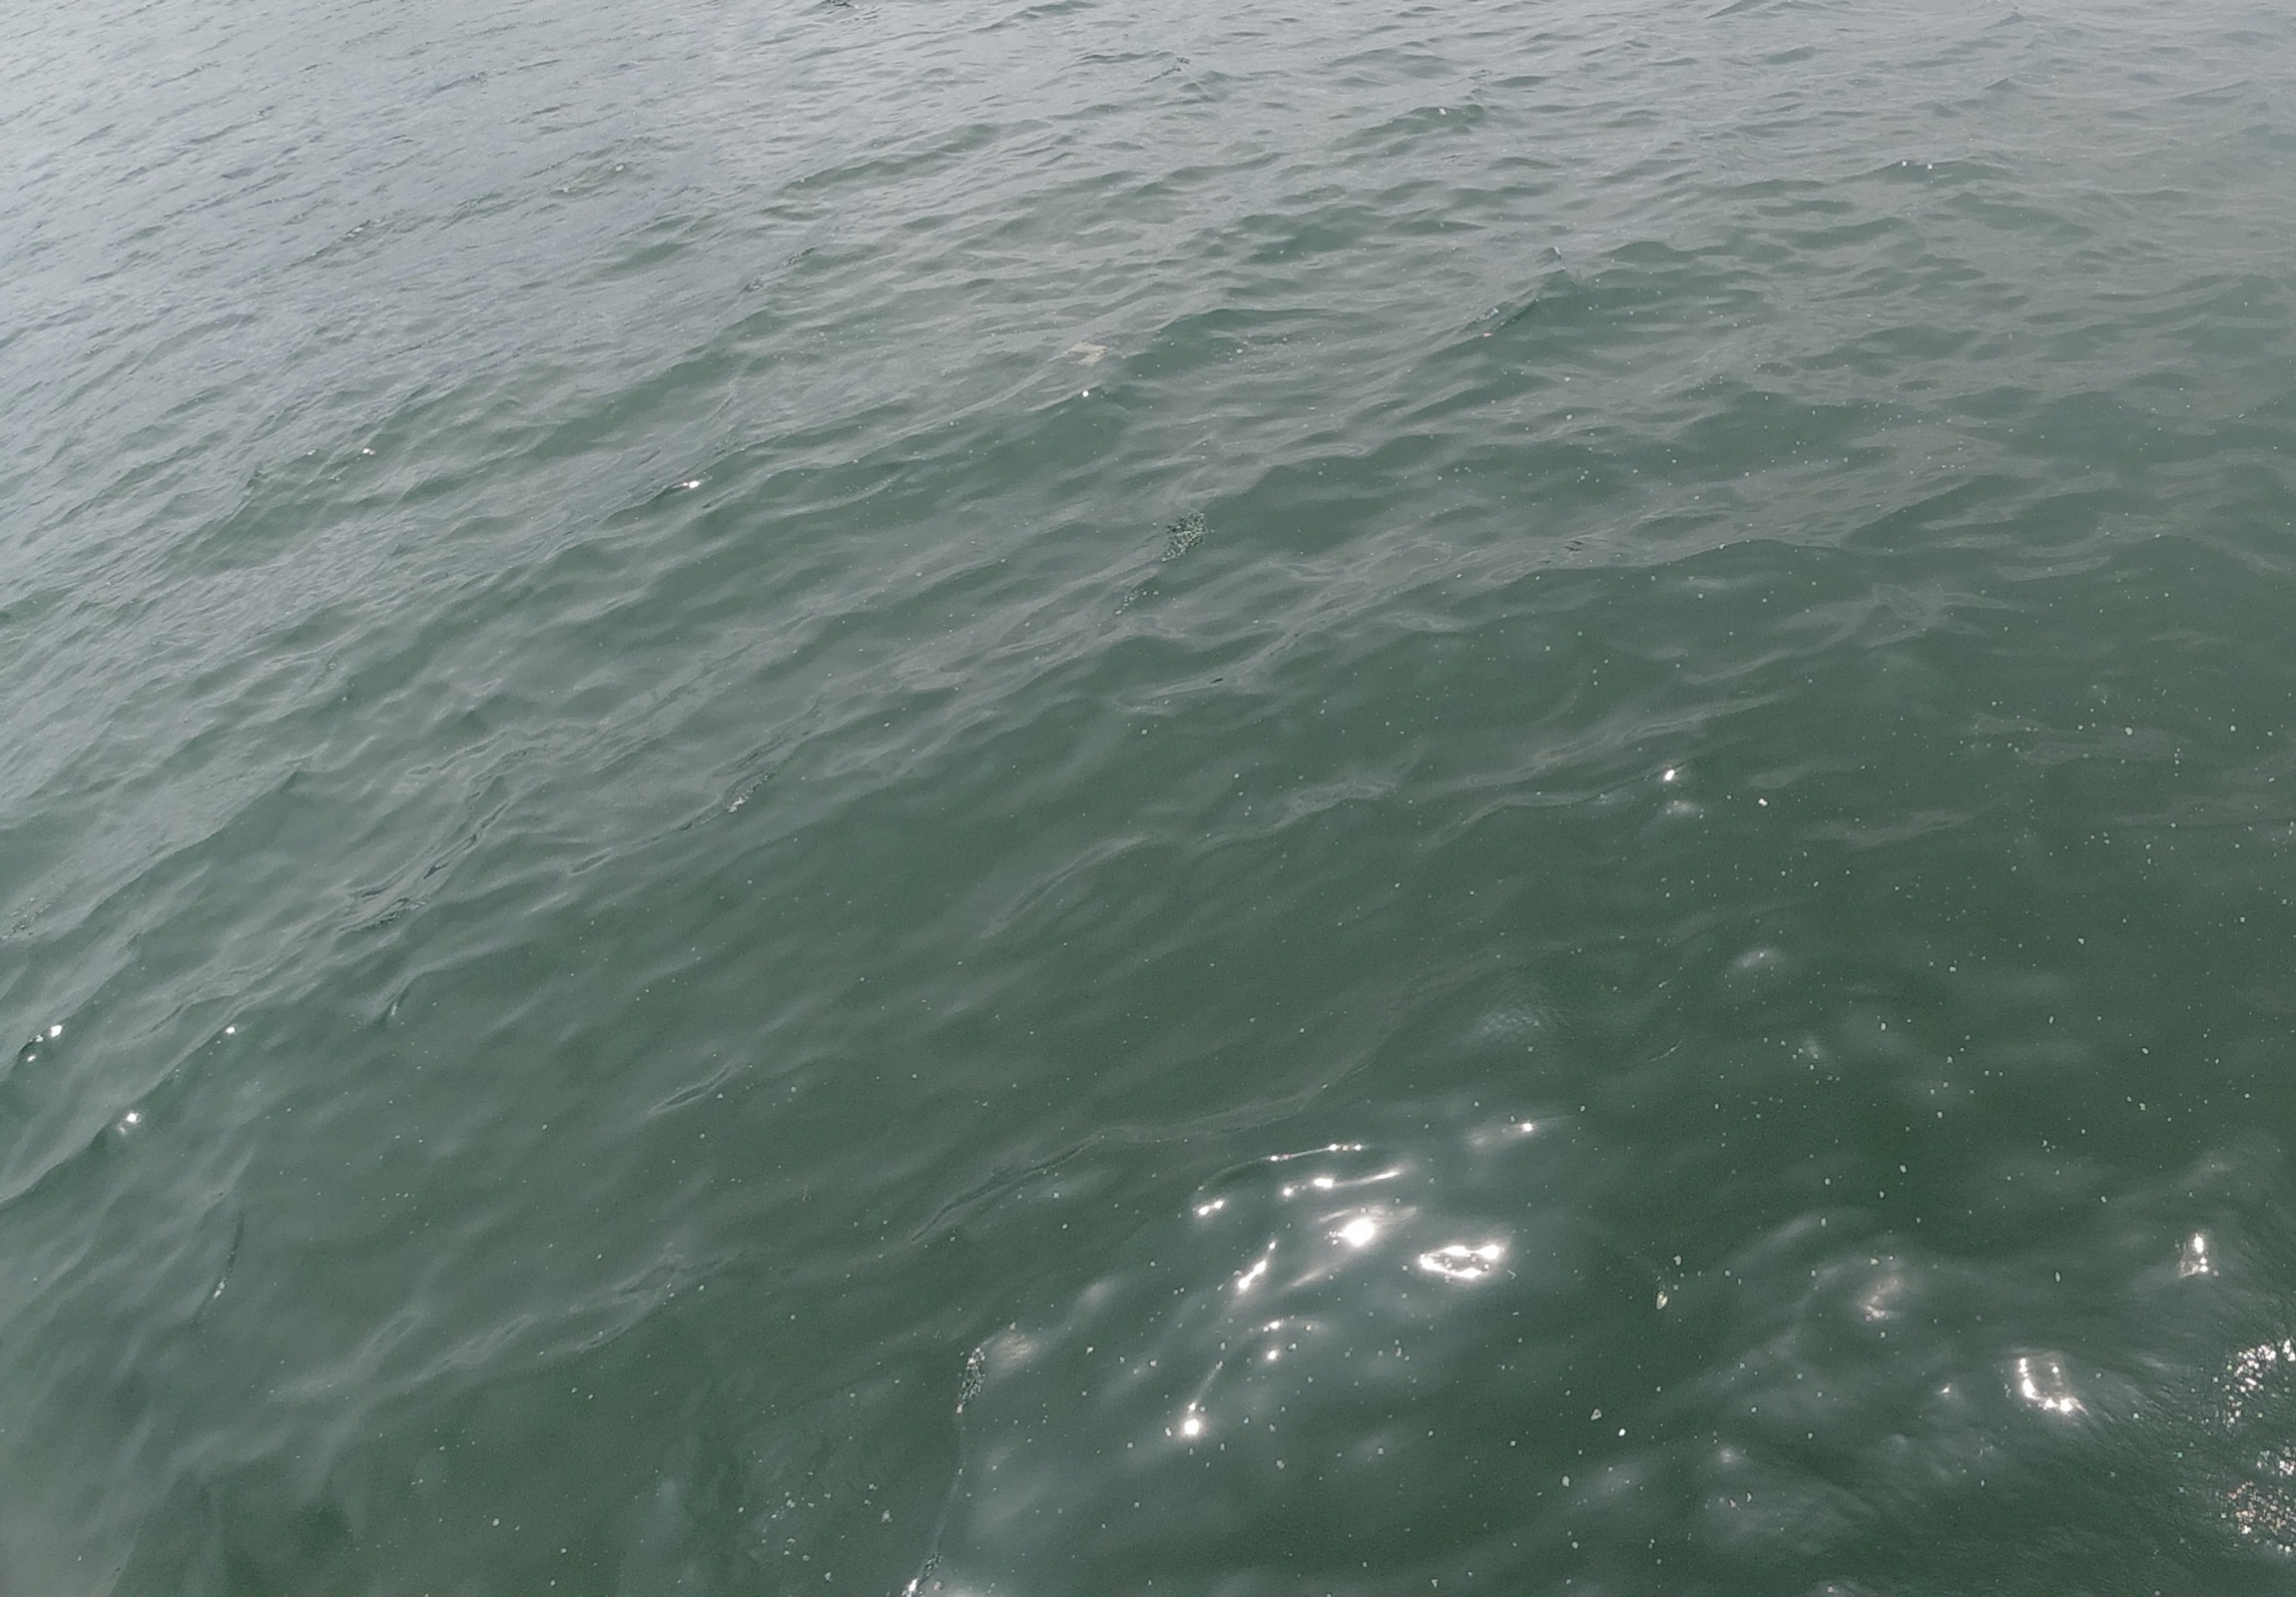plastic: (1042, 332, 1118, 384)
